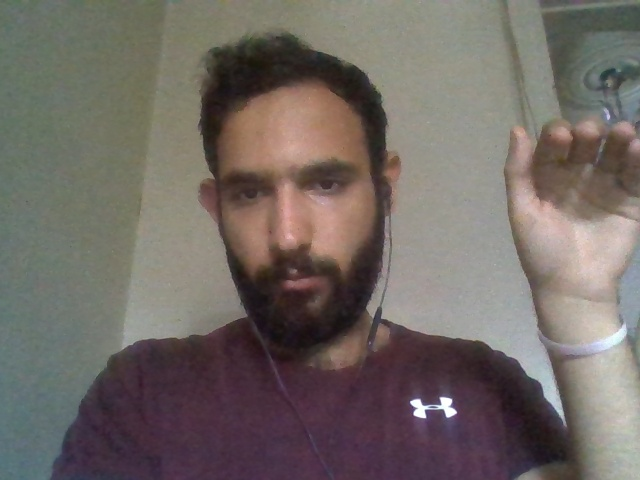Snake: (469, 101, 640, 480)
